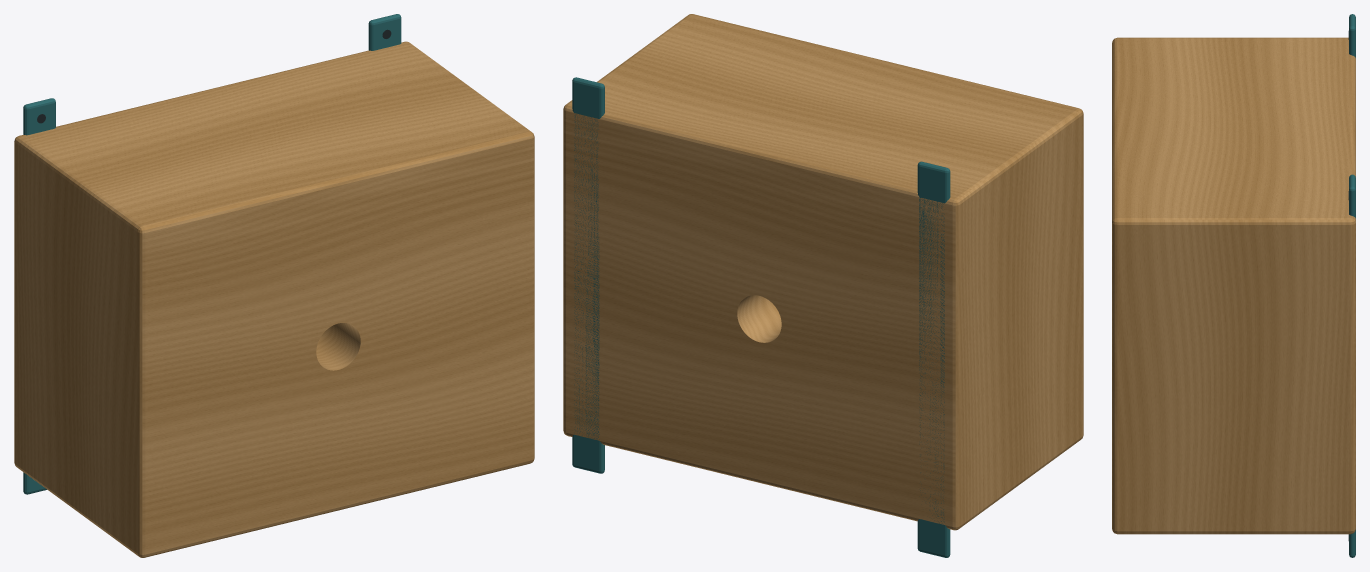
File: assembly.glb
3 renders of one model, left to right at view 1: azimuth 30°, elevation 25°; view 2: azimuth 150°, elevation 25°; view 3: azimuth 270°, elevation 25°, orthographic. The views are drawn at different scales.
Visible parts, largest first — view 1: Pilot-hole timber block, Block clamping strip.001, Block clamping strip; view 2: Pilot-hole timber block, Block clamping strip, Block clamping strip.001; view 3: Pilot-hole timber block, Block clamping strip.
Boxes of the visible parts, box(x1,y1,x2,y2) form: Pilot-hole timber block: box(14, 41, 534, 557); Block clamping strip.001: box(23, 98, 55, 494); Block clamping strip: box(368, 14, 401, 50); Pilot-hole timber block: box(563, 14, 1083, 530); Block clamping strip: box(572, 77, 604, 473); Block clamping strip.001: box(917, 161, 950, 557); Pilot-hole timber block: box(1112, 37, 1355, 534); Block clamping strip: box(1349, 174, 1355, 557).
Size of the model in its own units: 0.25 by 0.235 by 0.14.
3 materials, 1 textured.
